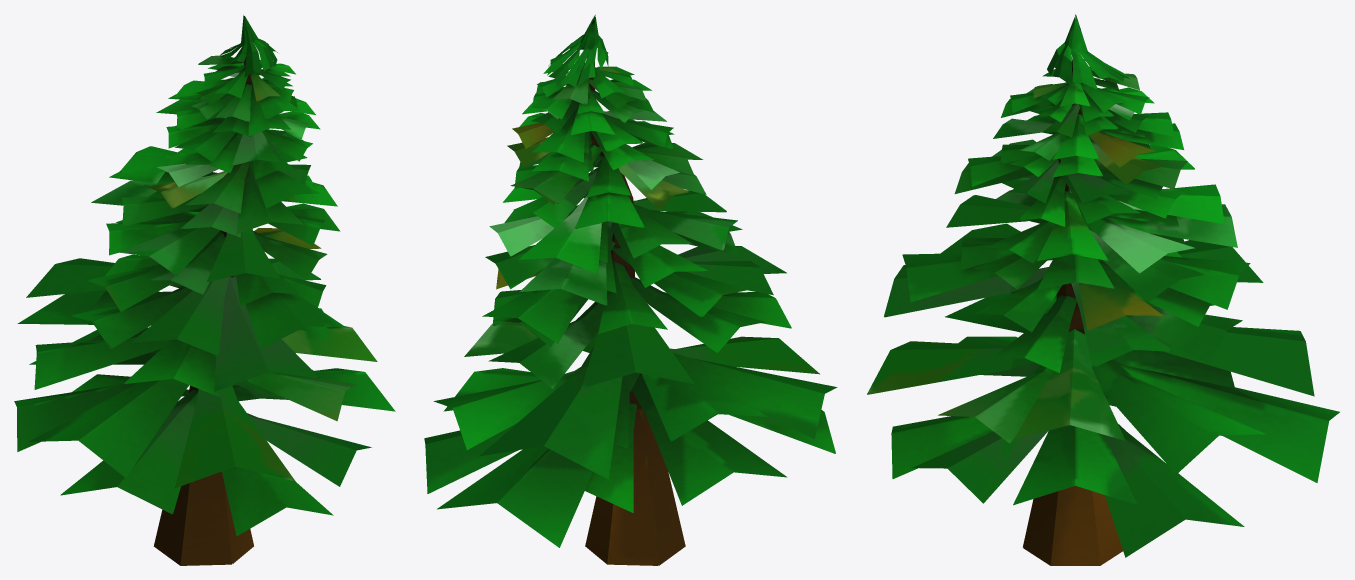
File: Wide Pine Tree.fbx
The picture shows the model from 3 angles, left to right: view 1: azimuth 30°, elevation 25°; view 2: azimuth 150°, elevation 25°; view 3: azimuth 270°, elevation 25°; orthographic projection. The views are drawn at different scales.
Parts seen in each view (by area): view 1: Wide Pine Tree; view 2: Wide Pine Tree; view 3: Wide Pine Tree.
Part boxes in pixels (box(x1,y1,x2,y2)): Wide Pine Tree: box(14, 15, 395, 565); Wide Pine Tree: box(424, 14, 837, 565); Wide Pine Tree: box(867, 14, 1339, 565).
Bounding box in the file's own units: 2.27 × 3.11 × 2.42.
